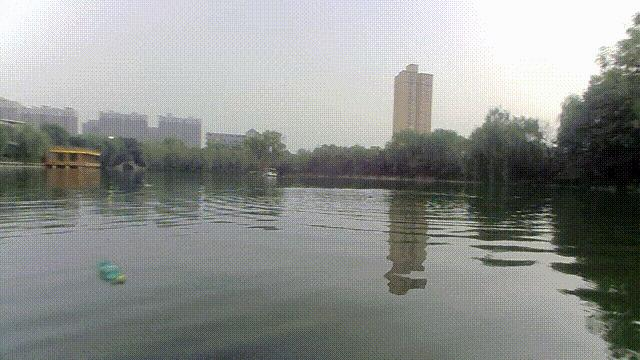Plastic: (99, 249, 129, 290)
